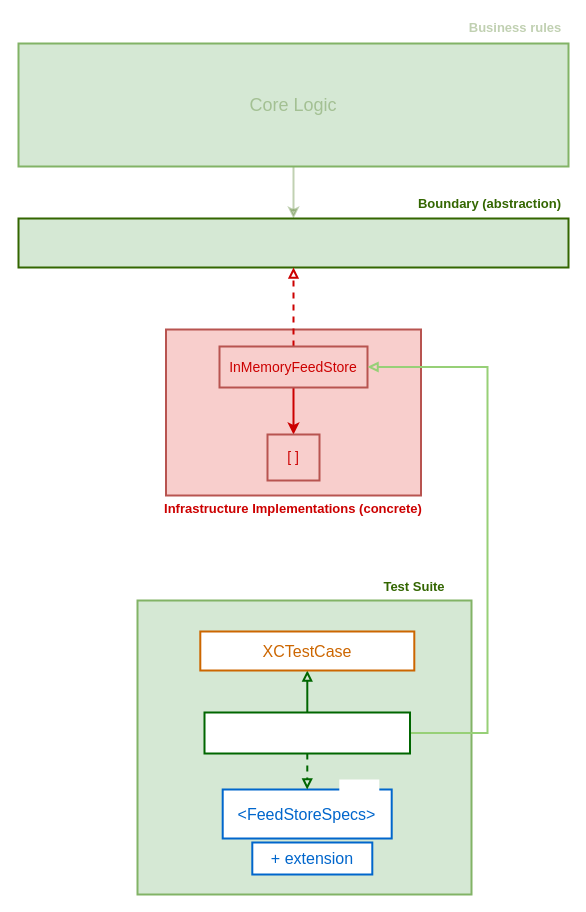
Image size: 586x912. Some labels were removed from this diagram. The shapes that lost their labels are listed below. From the top down, each one's box as (x1, y1, x2, y2) in pixels, then its label:
(17, 217, 569, 268): <FeedStore>
(203, 711, 410, 754): InMemoryFeedStoreTests
(339, 779, 379, 799): <P>
